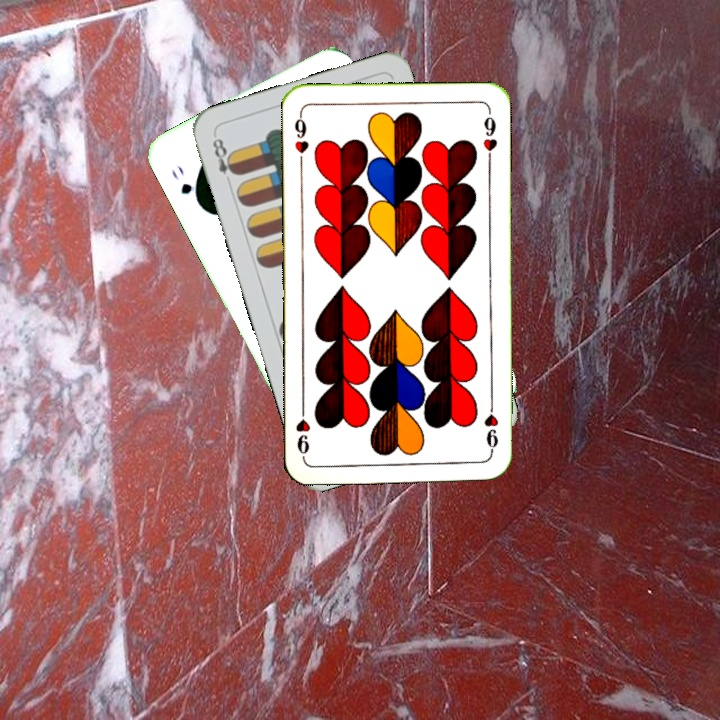E8: (208, 131, 240, 189)
GO: (167, 161, 203, 208)
H9: (290, 109, 311, 168), (480, 397, 501, 456)
